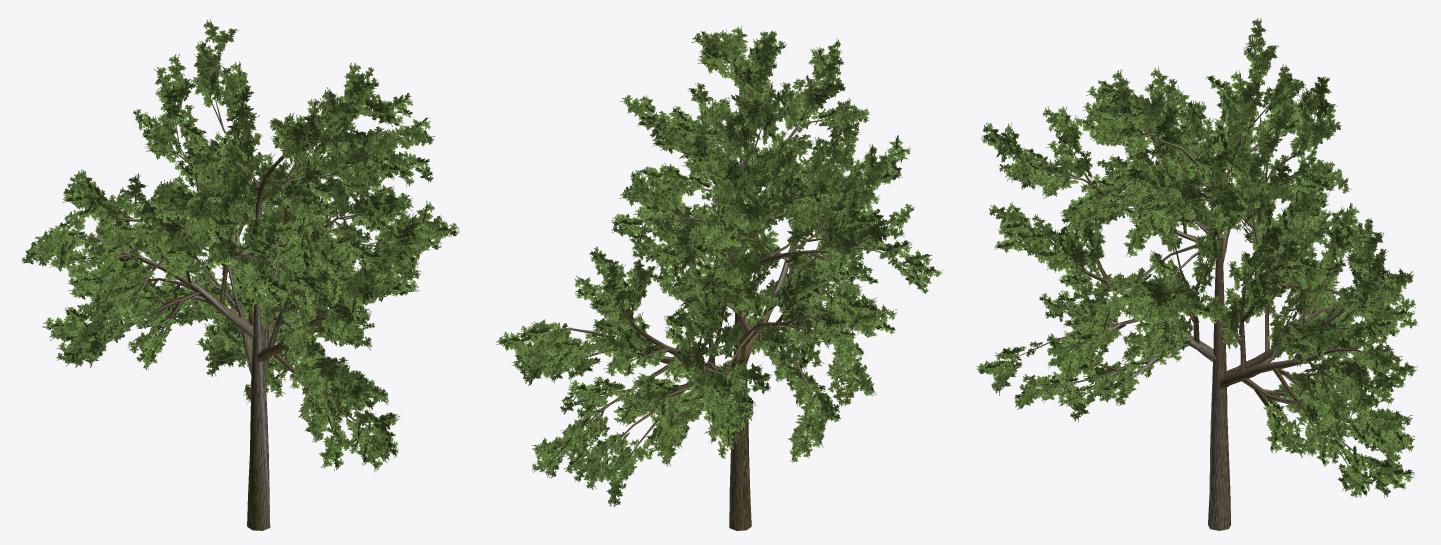
File: oak.glb
3 renders of one model, left to right at view 1: azimuth 30°, elevation 25°; view 2: azimuth 150°, elevation 25°; view 3: azimuth 270°, elevation 25°, orthographic. The views are drawn at different scales.
Parts seen in each view (by area): view 1: tree; view 2: tree; view 3: tree.
Boxes of the visible parts, x1=… form: tree: x1=21, y1=18, x2=459, y2=530; tree: x1=496, y1=26, x2=942, y2=530; tree: x1=976, y1=18, x2=1418, y2=530.
Bounding box in the file's own units: 6.9 × 8.49 × 7.02.
2 materials, 2 textured.
